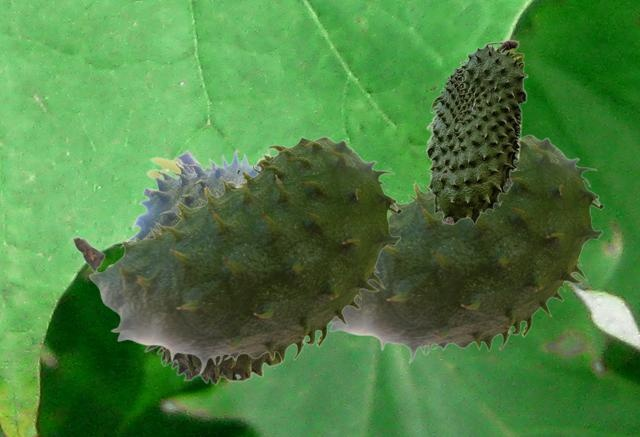guyabano: (72, 136, 401, 374), (329, 134, 603, 363), (107, 147, 282, 385), (425, 39, 527, 224)
